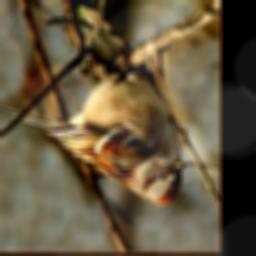Sparrow: (0, 39, 185, 207)
